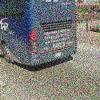buses: (0, 0, 77, 72)
